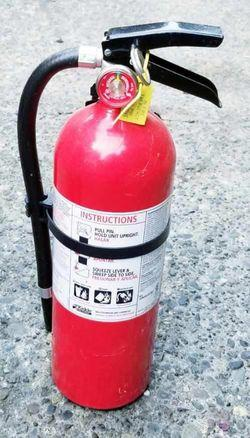floor-kept: (5, 4, 238, 438)
